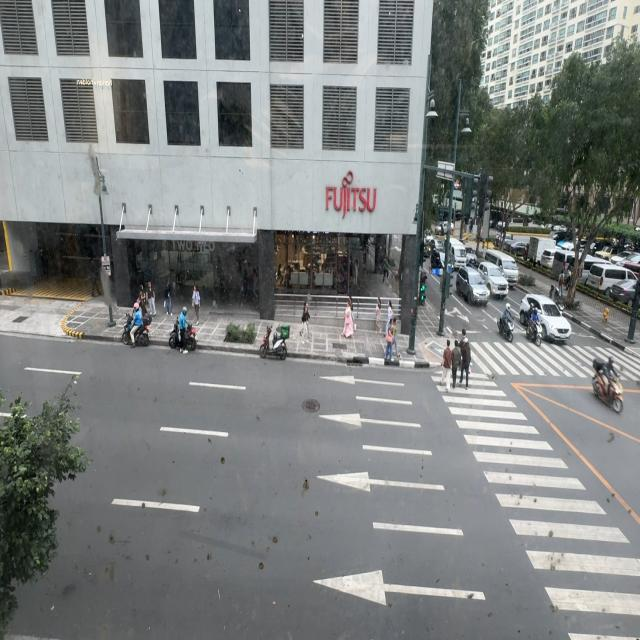crossing: (459, 333, 472, 388), (441, 339, 453, 388), (451, 340, 462, 388)
pedestrain: (341, 300, 355, 341), (384, 322, 396, 363), (89, 259, 101, 298), (300, 302, 310, 342), (192, 283, 200, 326), (148, 281, 157, 318), (164, 282, 173, 316), (386, 300, 394, 334), (375, 297, 382, 335), (558, 270, 564, 298), (565, 267, 572, 291)
